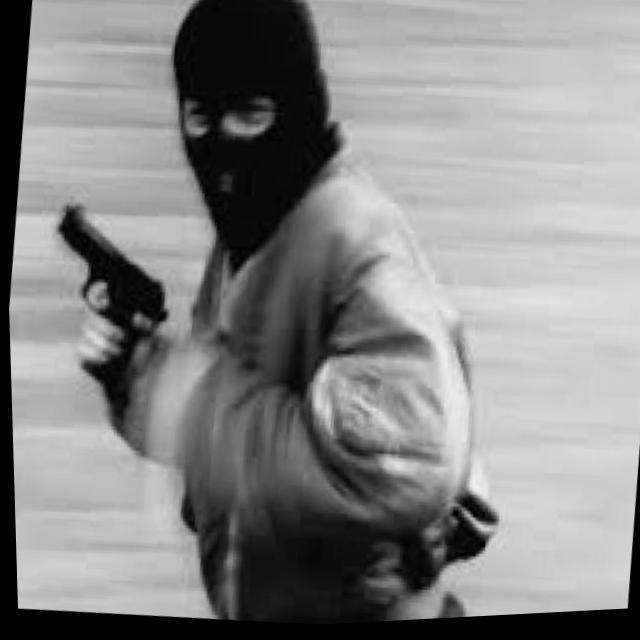weapon: (31, 193, 178, 435)
